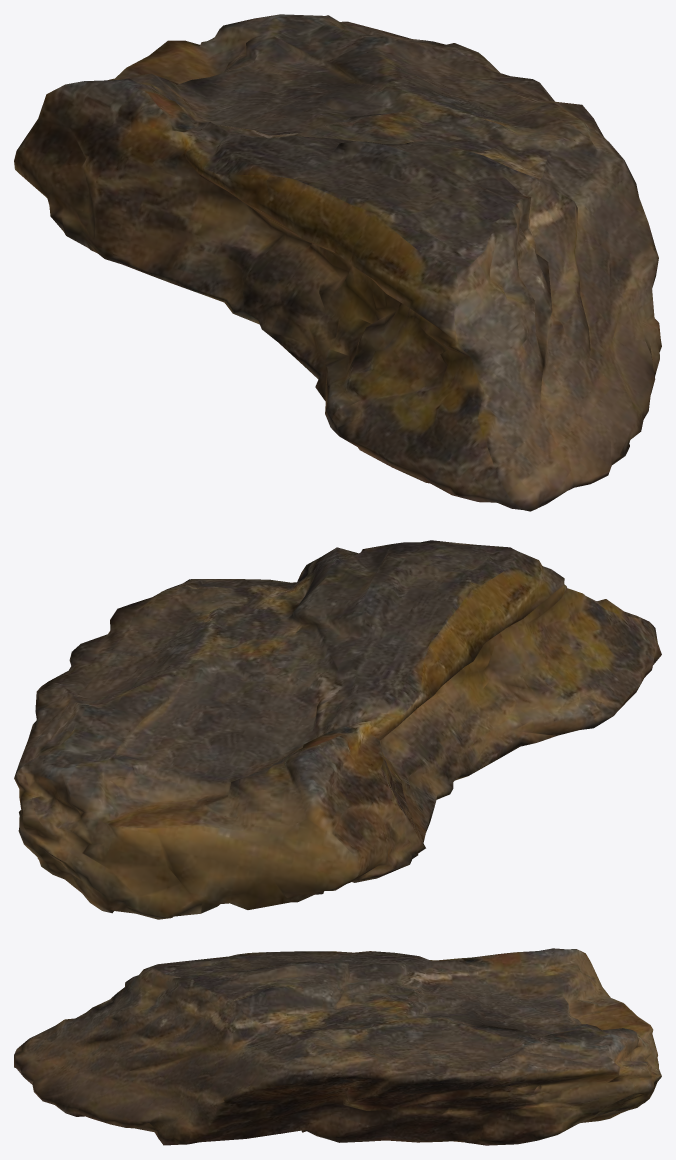
The model's file is Slab.glb.
3 views of the same model, one above another, from view 1: azimuth 30°, elevation 25°; view 2: azimuth 150°, elevation 25°; view 3: azimuth 270°, elevation 25° (orthographic). The views are drawn at different scales.
Parts seen in each view (by area): view 1: Slab; view 2: Slab; view 3: Slab.
Part boxes in pixels (left/top/right/bottom): Slab: left=14, top=14, right=661, bottom=511; Slab: left=14, top=540, right=661, bottom=919; Slab: left=14, top=948, right=661, bottom=1145.
Bounding box in the file's own units: 0.5111 × 0.2267 × 1.
1 material, 1 textured.
